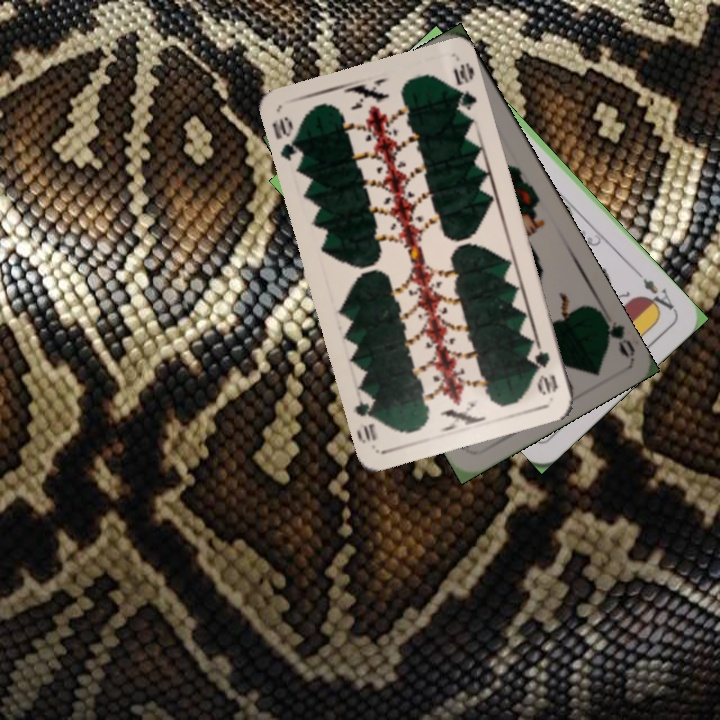EA: (633, 268, 678, 316)
G10: (268, 112, 306, 167), (529, 339, 561, 398)
GO: (593, 306, 638, 359)
